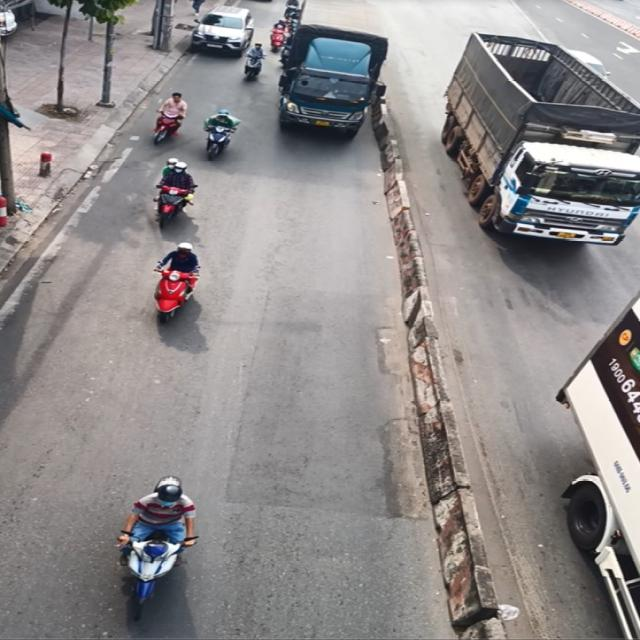motor: (111, 461, 203, 633), (140, 238, 212, 328), (136, 153, 209, 227), (150, 86, 194, 146), (202, 98, 236, 169)
truck: (432, 29, 640, 251), (284, 0, 382, 141)
